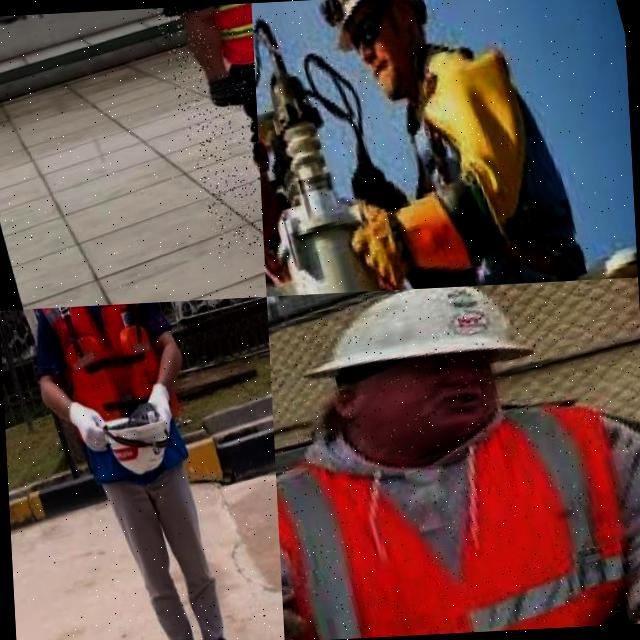boots: (197, 622, 253, 640)
helmet: (288, 282, 538, 413), (301, 0, 449, 57), (99, 401, 178, 487), (254, 52, 288, 184)
vest: (272, 381, 640, 640), (374, 22, 597, 290), (35, 301, 194, 493)
